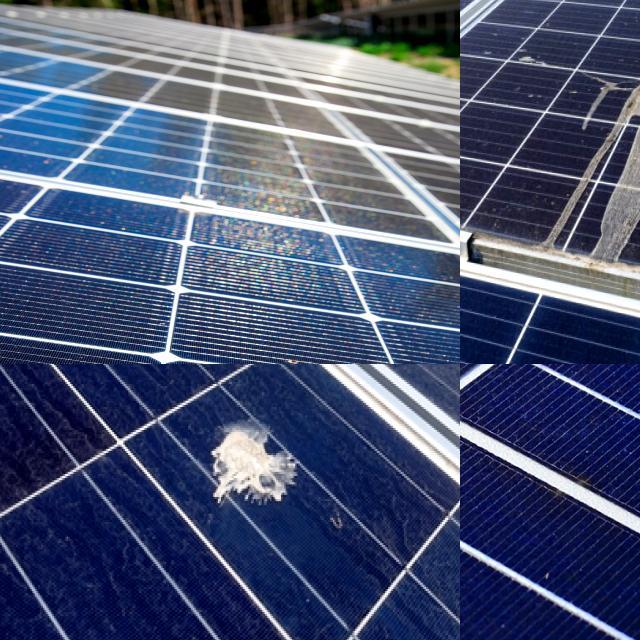bird: (460, 364, 573, 530), (196, 399, 302, 516), (595, 8, 640, 258)
crack: (0, 0, 460, 364)
